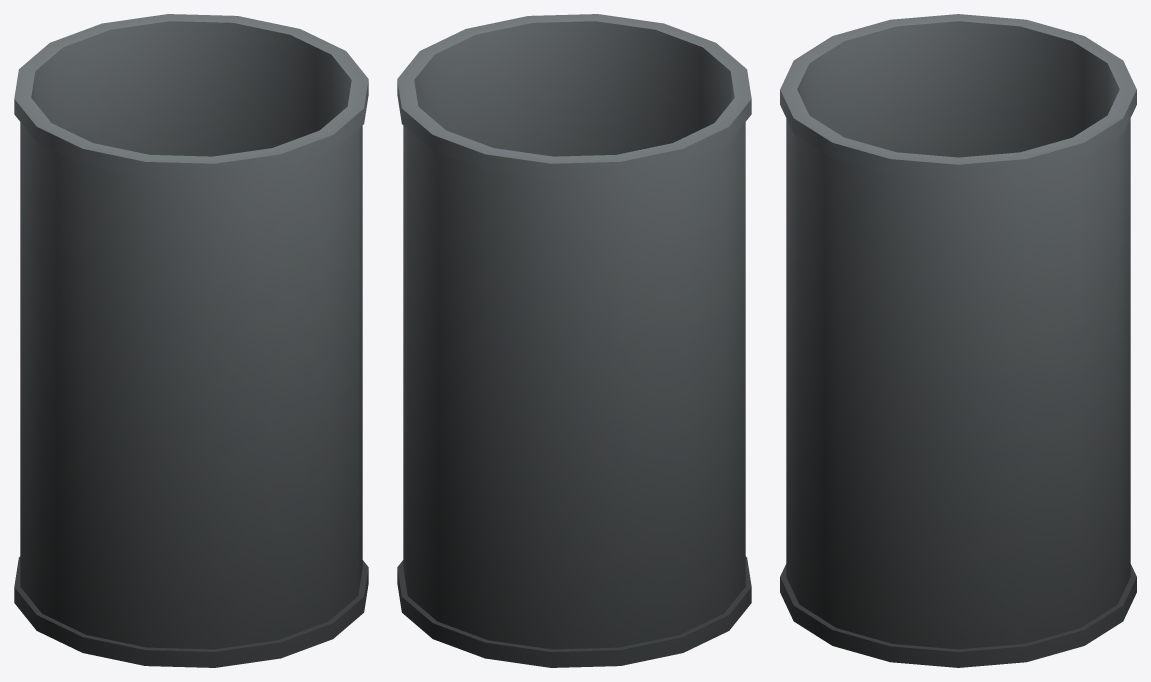
Rendered from WasteBinLarge.fbx.
3 views of the same model, side by side, from view 1: azimuth 30°, elevation 25°; view 2: azimuth 150°, elevation 25°; view 3: azimuth 270°, elevation 25° (orthographic).
Parts seen in each view (by area): view 1: WasteBinLarge; view 2: WasteBinLarge; view 3: WasteBinLarge.
Part boxes in pixels (left/top/right/bottom): WasteBinLarge: left=14, top=14, right=368, bottom=667; WasteBinLarge: left=397, top=14, right=751, bottom=667; WasteBinLarge: left=780, top=14, right=1136, bottom=667.
Size of the model in its own units: 45.23 by 70.39 by 45.23.
